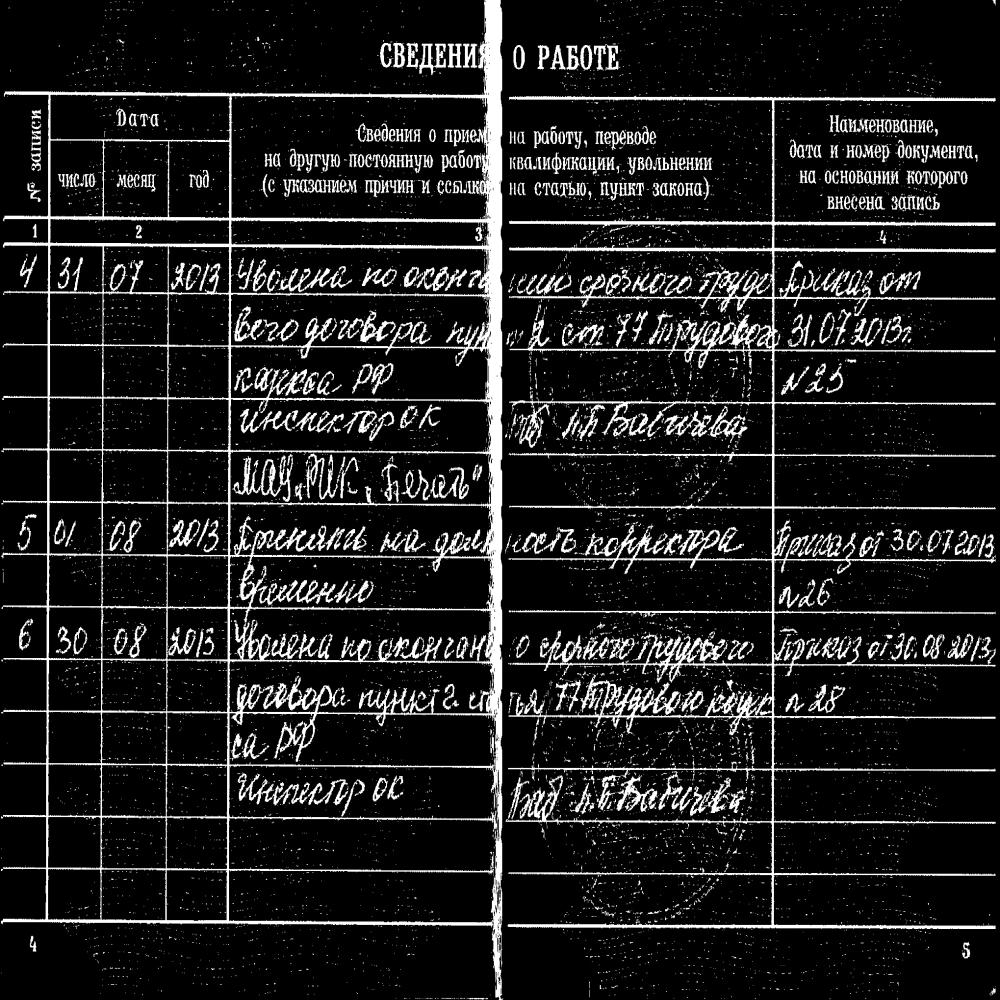rus: (233, 445, 494, 504), (229, 394, 461, 450), (773, 510, 998, 566), (17, 503, 220, 556), (775, 622, 993, 668), (16, 247, 222, 295), (16, 616, 222, 660), (237, 765, 411, 814), (241, 306, 426, 346), (231, 358, 397, 401), (232, 565, 376, 608), (779, 259, 923, 302), (406, 260, 570, 296), (787, 307, 914, 352), (237, 517, 370, 554), (229, 616, 330, 662), (228, 715, 320, 763), (237, 254, 352, 290), (238, 678, 347, 715), (776, 356, 857, 402), (770, 566, 840, 619), (589, 530, 742, 552), (380, 40, 486, 70), (514, 44, 619, 72), (380, 632, 480, 660), (359, 682, 438, 717), (784, 673, 846, 715), (580, 274, 696, 296), (829, 112, 934, 134), (695, 266, 769, 296), (510, 154, 618, 173), (506, 528, 574, 557), (437, 519, 492, 554), (629, 151, 712, 173), (439, 316, 490, 351), (350, 151, 436, 171), (377, 519, 426, 553), (821, 166, 900, 187), (355, 122, 421, 145), (114, 104, 163, 134), (897, 140, 974, 159), (286, 176, 358, 195), (336, 626, 373, 662), (360, 259, 399, 291), (594, 125, 656, 145), (904, 167, 968, 186), (826, 192, 885, 212), (290, 148, 340, 169), (533, 128, 584, 148), (890, 192, 942, 211), (535, 180, 588, 198), (56, 168, 96, 190), (442, 151, 486, 171), (437, 178, 491, 194), (598, 180, 645, 198), (445, 126, 488, 145), (366, 179, 415, 195), (511, 628, 531, 666), (652, 182, 702, 197), (788, 137, 822, 159), (117, 172, 156, 191), (846, 144, 890, 158), (440, 684, 458, 717), (189, 170, 212, 190), (507, 127, 525, 147), (263, 152, 282, 170), (799, 169, 816, 186), (509, 180, 526, 196), (425, 123, 437, 144), (266, 177, 280, 192), (421, 179, 432, 194), (828, 142, 839, 157)
